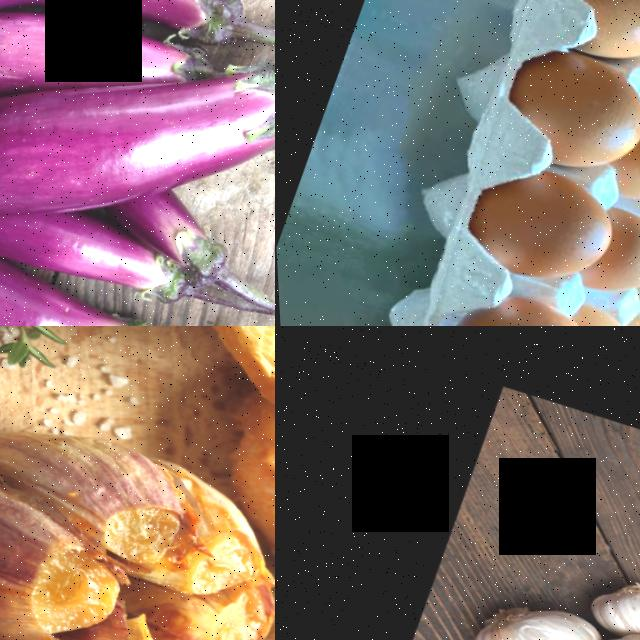egg_: (455, 153, 629, 314), (490, 37, 640, 201), (532, 0, 640, 96), (434, 277, 620, 326), (584, 214, 640, 318), (601, 114, 640, 231)
eggplant: (104, 18, 275, 252), (0, 187, 198, 326), (0, 198, 178, 326), (0, 0, 250, 90)
garlic: (460, 583, 598, 640), (580, 566, 640, 640)
